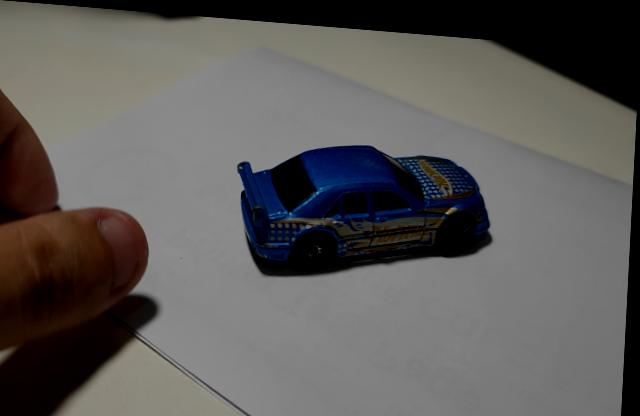04_MERZEDES: (238, 140, 496, 274)
